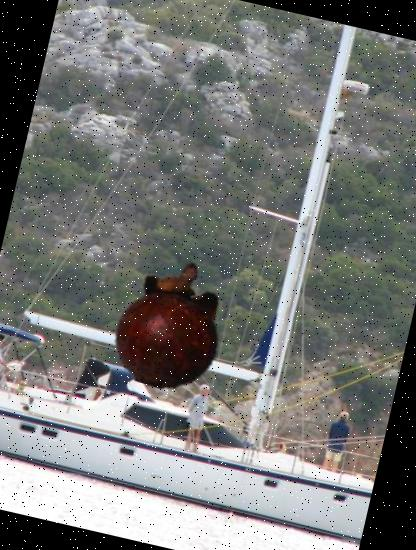Mangostan: (93, 246, 250, 403)
